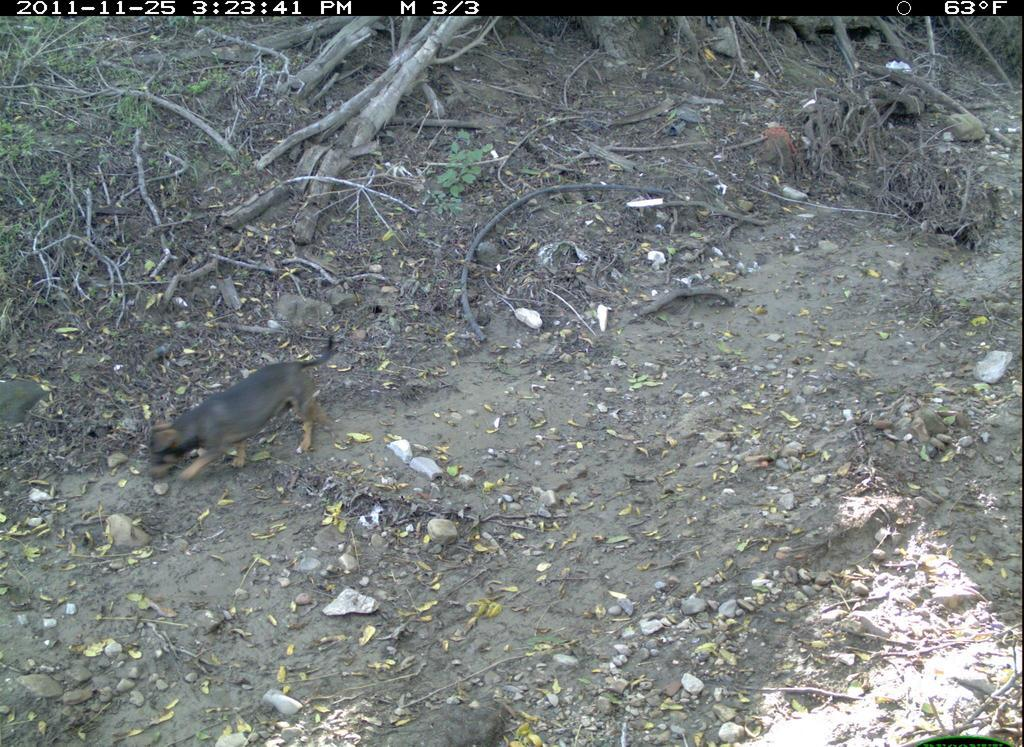dog: (141, 326, 364, 511)
